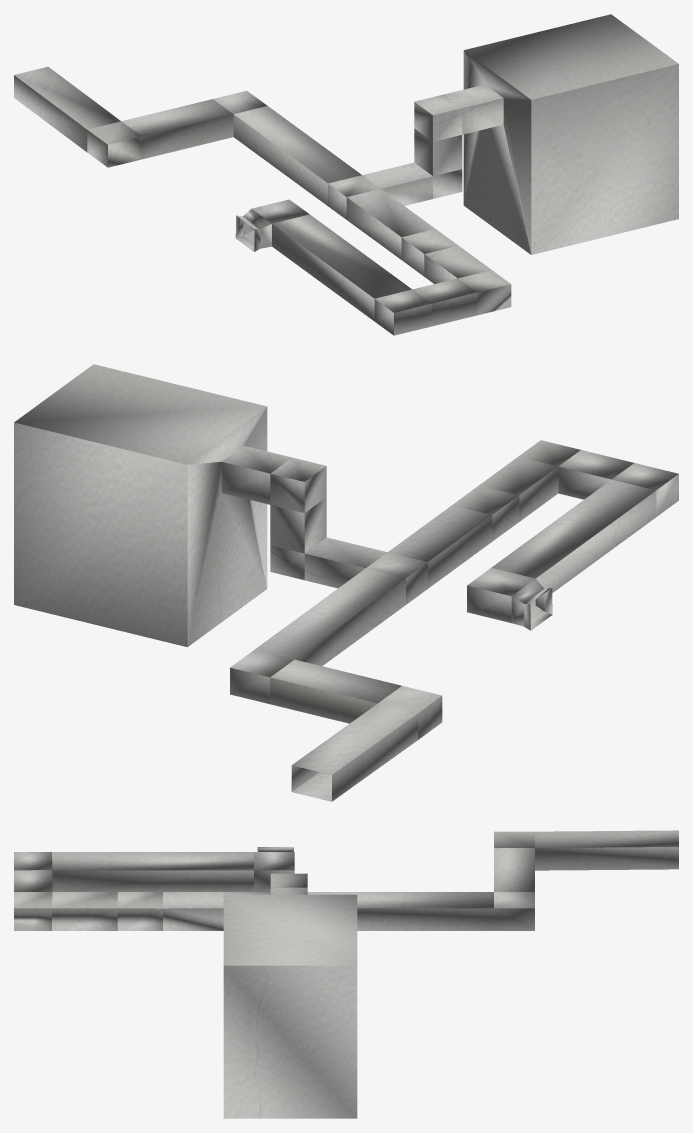
Rendered from VentWalls.fbx.
3 renders of one model, top to bottom at view 1: azimuth 30°, elevation 25°; view 2: azimuth 150°, elevation 25°; view 3: azimuth 270°, elevation 25°, orthographic. The views are drawn at different scales.
Parts seen in each view (by area): view 1: Level2Walls.001; view 2: Level2Walls.001; view 3: Level2Walls.001.
Part boxes in pixels (box(x1,y1,x2,y2)): Level2Walls.001: box(14, 14, 678, 335); Level2Walls.001: box(14, 364, 678, 801); Level2Walls.001: box(14, 830, 678, 1118).
Size of the model in its own units: 2990 by 1022 by 4029.
